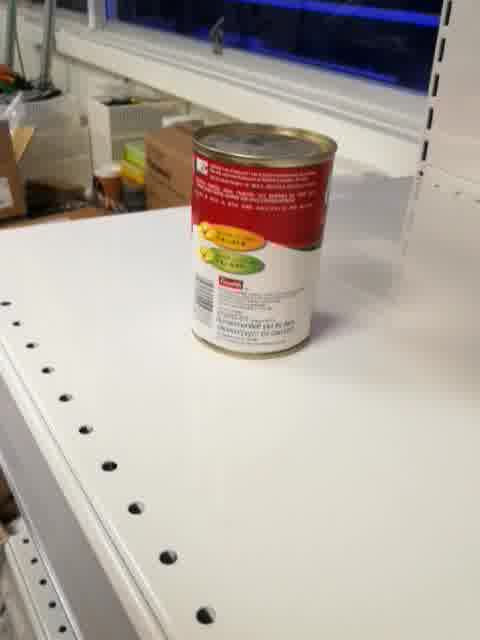tomatosoup: (188, 121, 339, 362)
